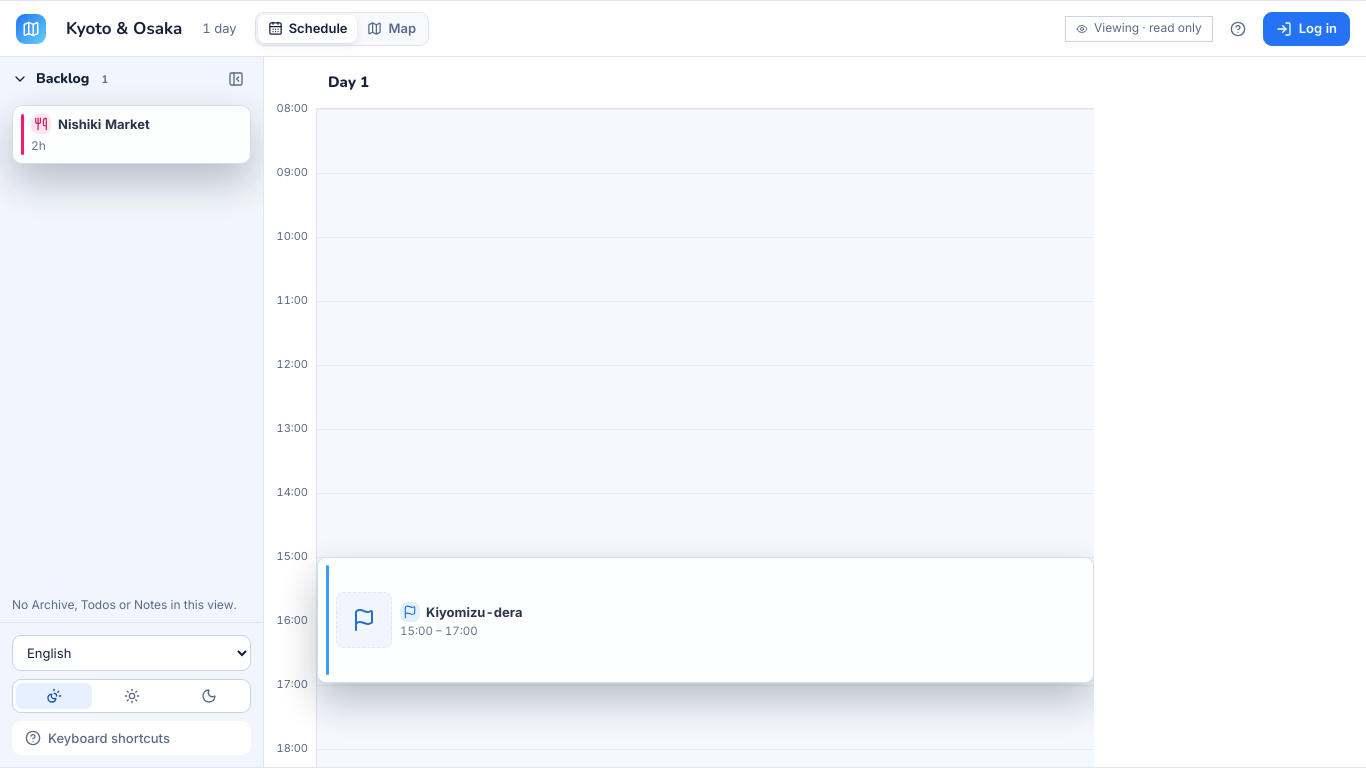
a share link, opened without logging in › closes the Event with Esc
Click the button "Kiyomizu-dera 15:00 – 17:00" at (364, 620), box [318, 558, 1093, 682]
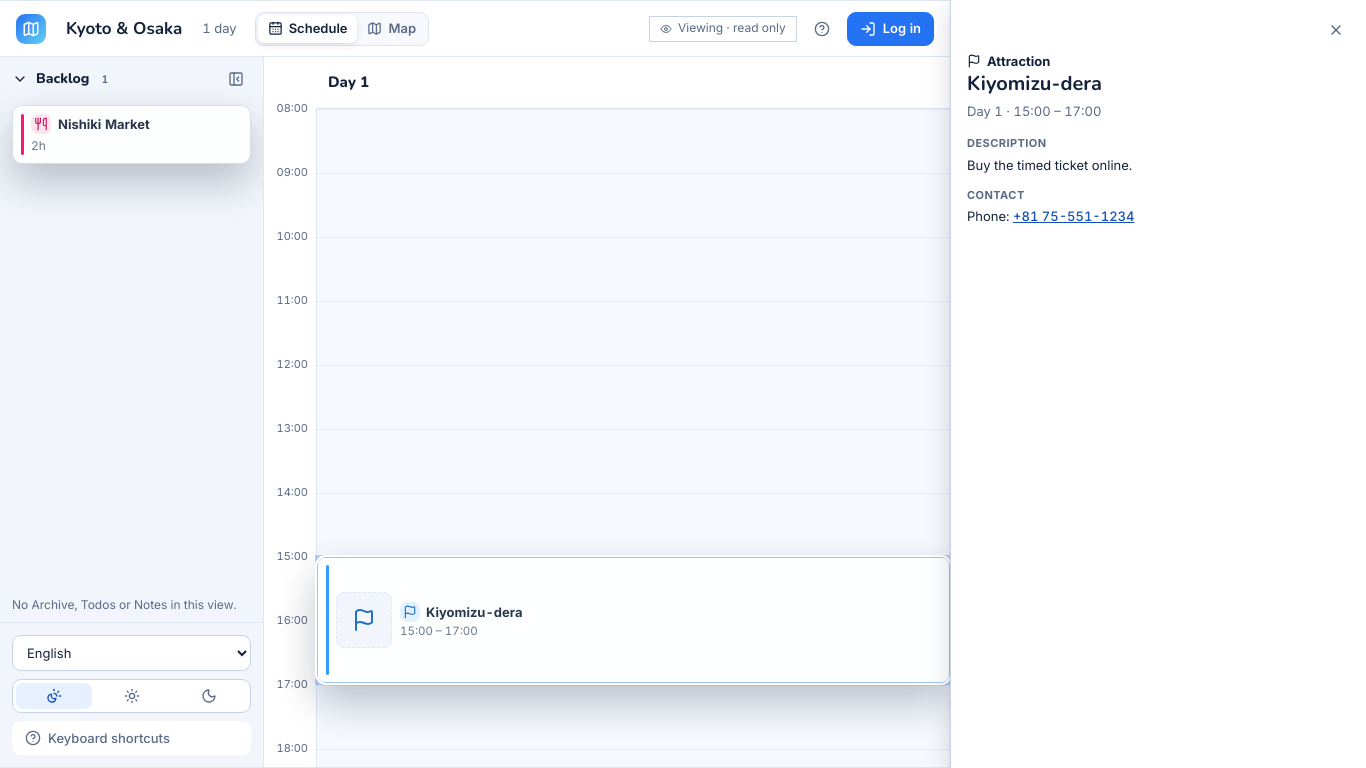
Expected: the element named "Event" is shown, [950, 0, 1365, 767]
Press Escape
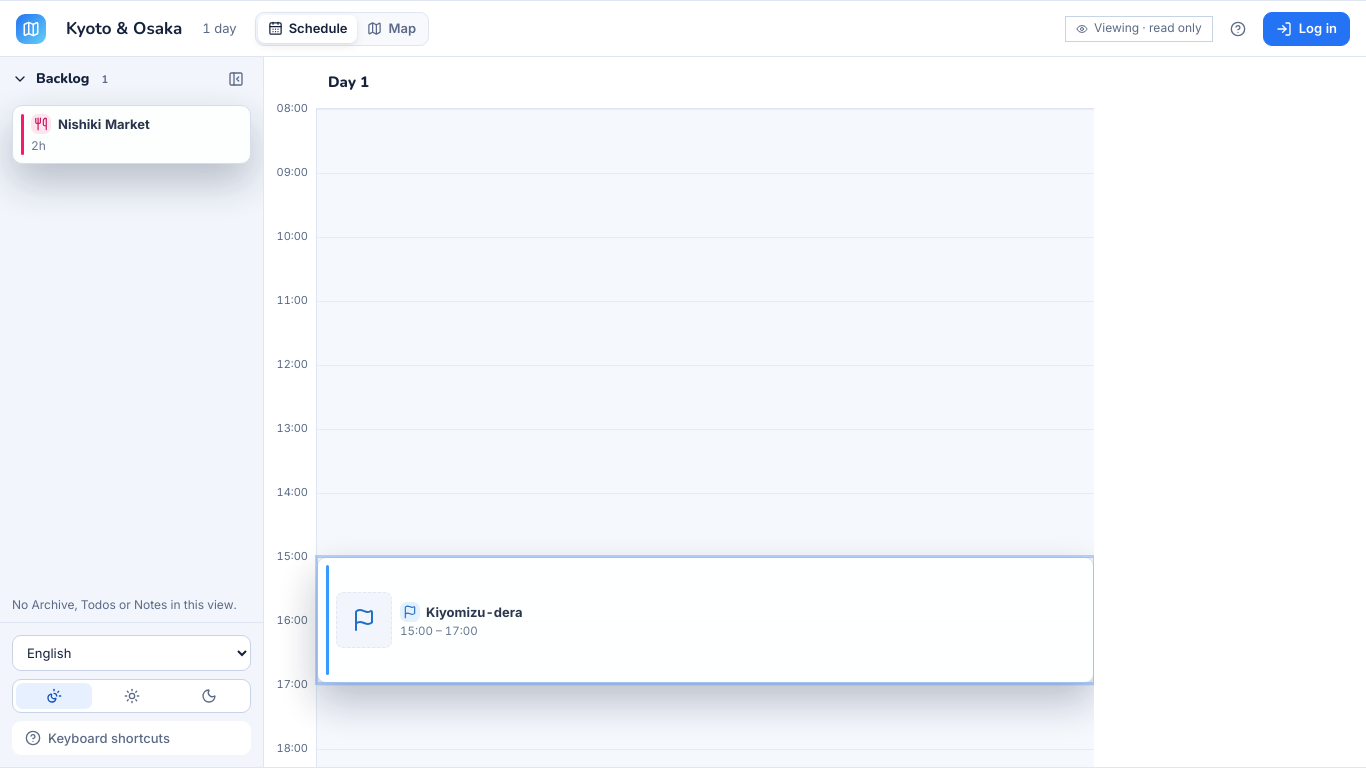
Expected: the element "Event" is gone
